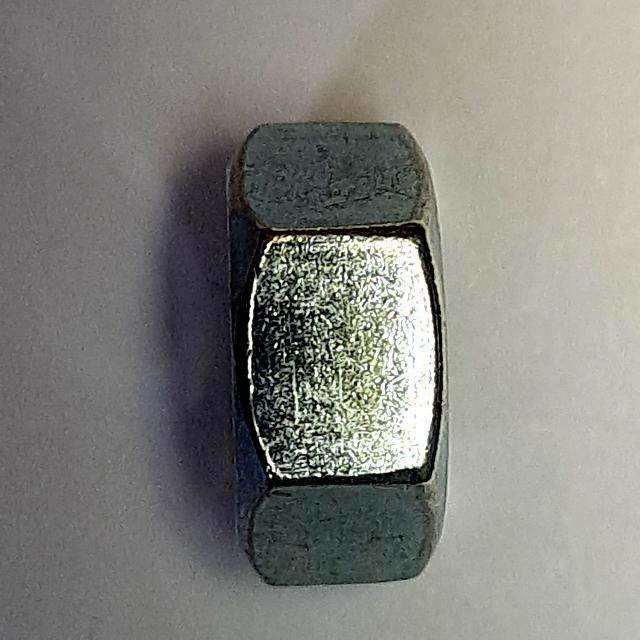Side_Excellent: (207, 111, 469, 607)
